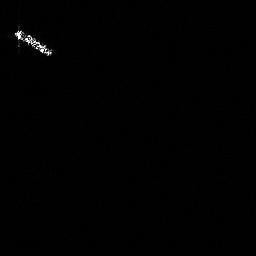ship: (12, 27, 55, 59)
